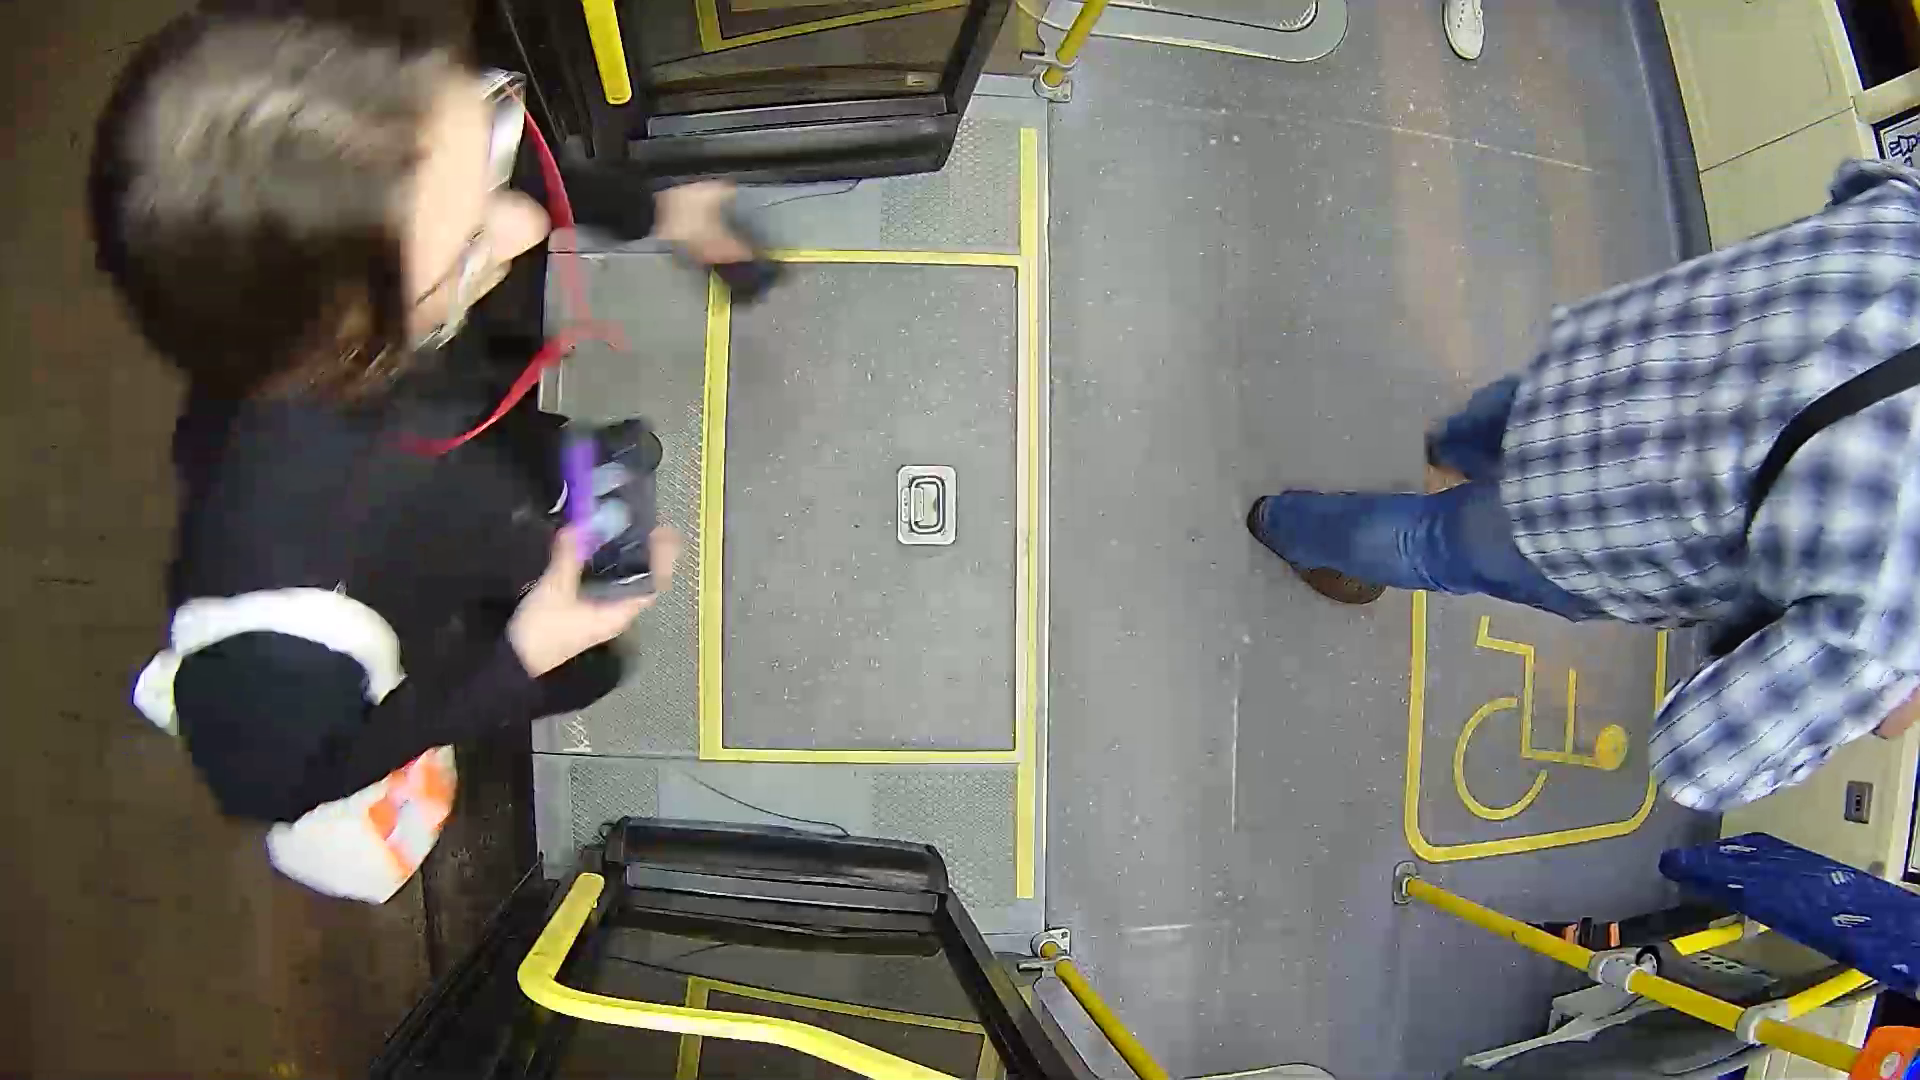person: (114, 49, 888, 846)
